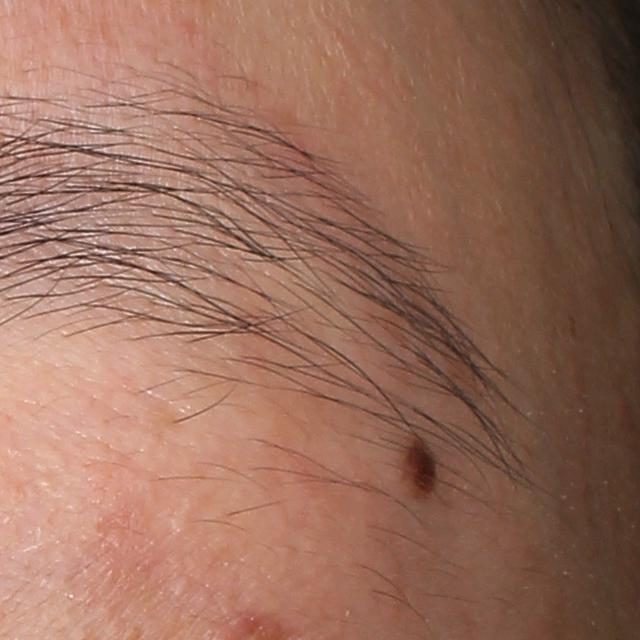nevus: (395, 421, 445, 512)
